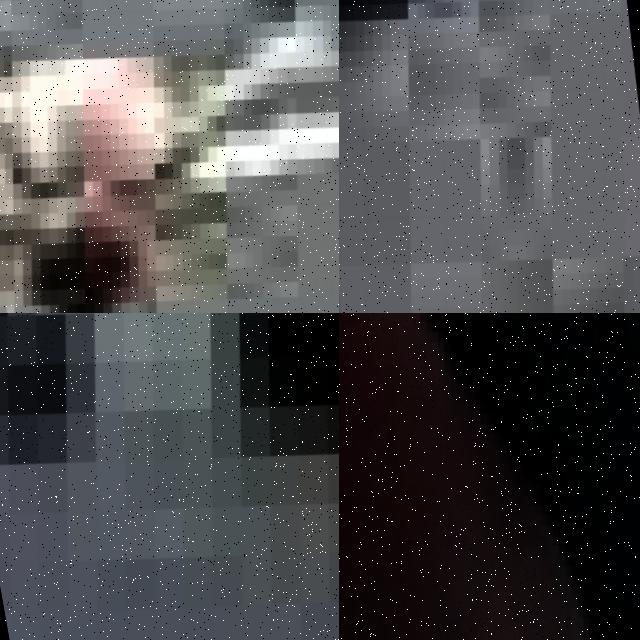0: (0, 0, 339, 313), (339, 0, 640, 313)
drone: (0, 313, 339, 640), (339, 313, 640, 640)
